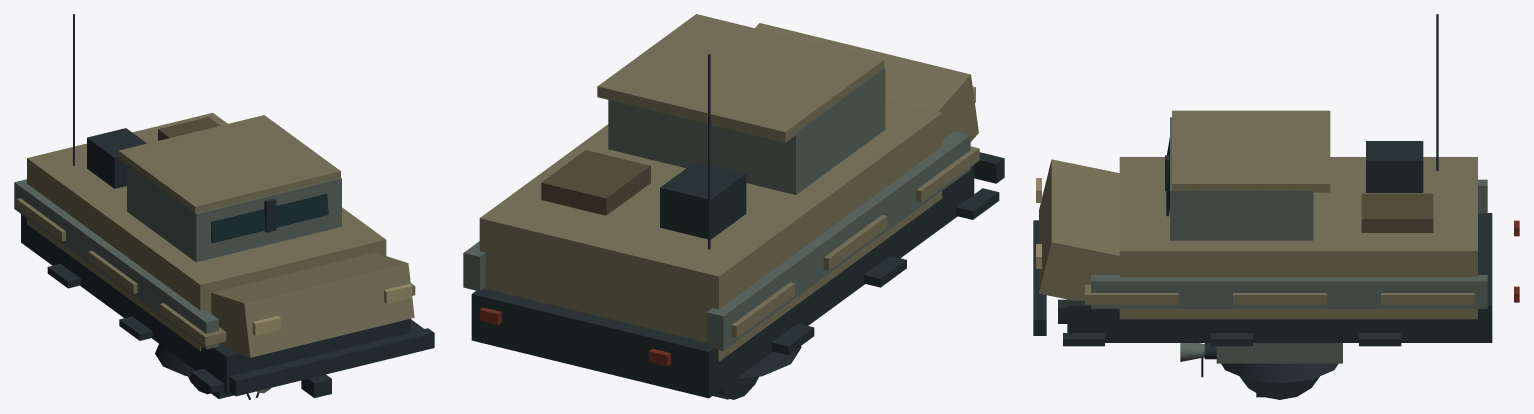
File: sandline-units.glb
3 renders of one model, left to right at view 1: azimuth 30°, elevation 25°; view 2: azimuth 150°, elevation 25°; view 3: azimuth 270°, elevation 25°, orthographic. The views are drawn at different scales.
Visible parts, largest first — view 1: vehicle_body, vehicle_turret; view 2: vehicle_body, vehicle_turret, vehicle_wheel; view 3: vehicle_body, vehicle_turret, vehicle_wheel, weapon_at.
Part boxes in pixels (x1,y1,x2,y2): vehicle_body: (14,14,434,396); vehicle_turret: (155,344,331,398); vehicle_body: (463,14,1004,398); vehicle_turret: (735,346,801,379); vehicle_wheel: (714,376,758,399); vehicle_body: (1033,14,1519,346); vehicle_turret: (1058,299,1342,383); vehicle_wheel: (1239,376,1319,399); weapon_at: (1180,343,1216,361).
Size of what is drawn, in the model's own units: 2.73 by 3.99 by 5.09.
